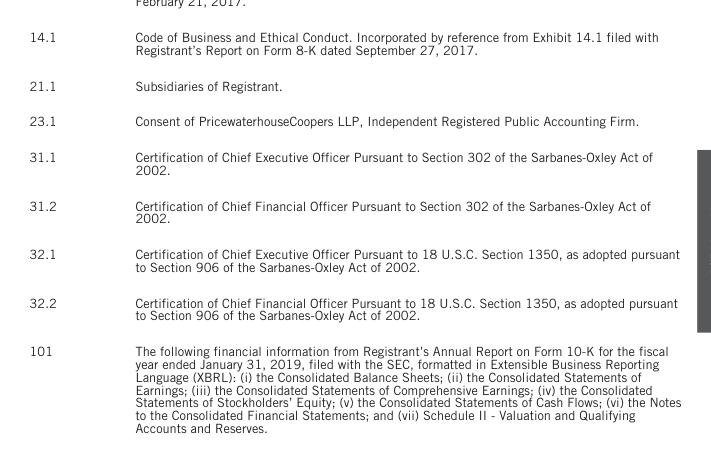table: (28, 28, 680, 434)
table column: (95, 28, 680, 434), (28, 28, 95, 434)
table row: (28, 332, 680, 434), (28, 138, 680, 187), (28, 235, 680, 284), (28, 187, 680, 235), (28, 284, 680, 332), (28, 28, 680, 66), (28, 66, 680, 102), (28, 102, 680, 138)
